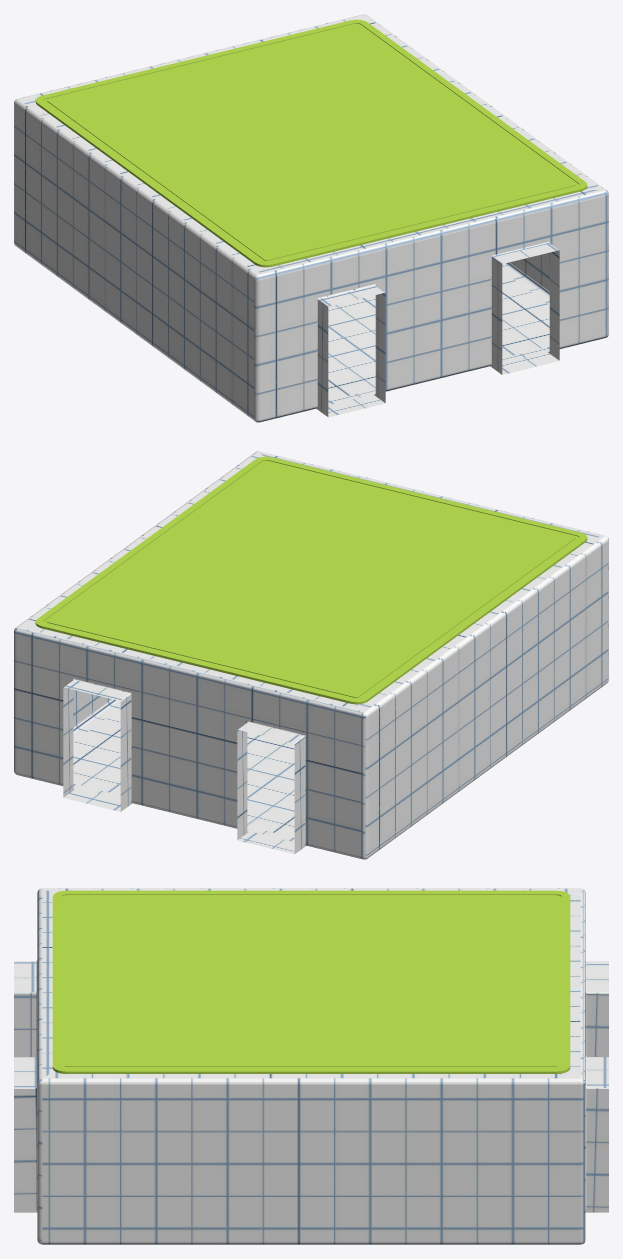
File: QuadRoom-Starter.fbx
3 renders of one model, top to bottom at view 1: azimuth 30°, elevation 25°; view 2: azimuth 150°, elevation 25°; view 3: azimuth 270°, elevation 25°, orthographic. The views are drawn at different scales.
Visible parts, largest first — view 1: Room.Door-hiding-panel.035, HighPolyRoom.005, HighPolyRoom.001, Room.Door-hiding-panel.001, Room.008-CutoutDoor.001, Room.Door-hiding-panel.002, HighPolyRoom.002; view 2: Room.Door-hiding-panel.035, HighPolyRoom.005, HighPolyRoom.001, Room.Door-hiding-panel.001, Room.008-CutoutDoor.001, Room.Door-hiding-panel.002, HighPolyRoom.002; view 3: Room.Door-hiding-panel.035, HighPolyRoom.005, Room.008-CutoutDoor.001, HighPolyRoom.001, Room.Door-hiding-panel.002, HighPolyRoom.002.
Part boxes in pixels (x1,y1,x2,y2): Room.Door-hiding-panel.035: (14, 14, 608, 422); HighPolyRoom.005: (47, 24, 574, 259); HighPolyRoom.001: (35, 19, 587, 267); Room.Door-hiding-panel.001: (328, 271, 549, 400); Room.008-CutoutDoor.001: (316, 241, 559, 417); Room.Door-hiding-panel.002: (18, 14, 604, 274); HighPolyRoom.002: (43, 23, 579, 261); Room.Door-hiding-panel.035: (14, 451, 608, 859); HighPolyRoom.005: (48, 461, 575, 696); HighPolyRoom.001: (35, 456, 587, 704); Room.Door-hiding-panel.001: (73, 708, 294, 837); Room.008-CutoutDoor.001: (63, 678, 306, 854); Room.Door-hiding-panel.002: (18, 451, 604, 711); HighPolyRoom.002: (43, 460, 579, 698); Room.Door-hiding-panel.035: (37, 888, 585, 1244); HighPolyRoom.005: (66, 896, 556, 1065); Room.008-CutoutDoor.001: (14, 960, 608, 1212); HighPolyRoom.001: (52, 890, 570, 1073); Room.Door-hiding-panel.002: (42, 888, 580, 1078); HighPolyRoom.002: (61, 894, 561, 1067).
Size of what is drawn, in the model's own units: 7.13 by 2.89 by 9.25.
